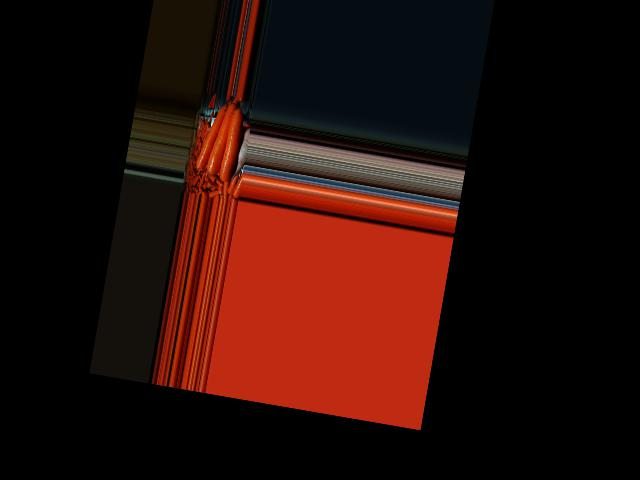carrot: (214, 103, 245, 184)
